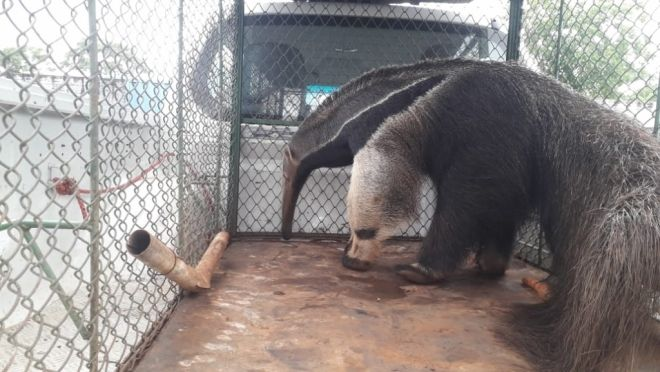TamanduaBandeira: (272, 53, 656, 351)
